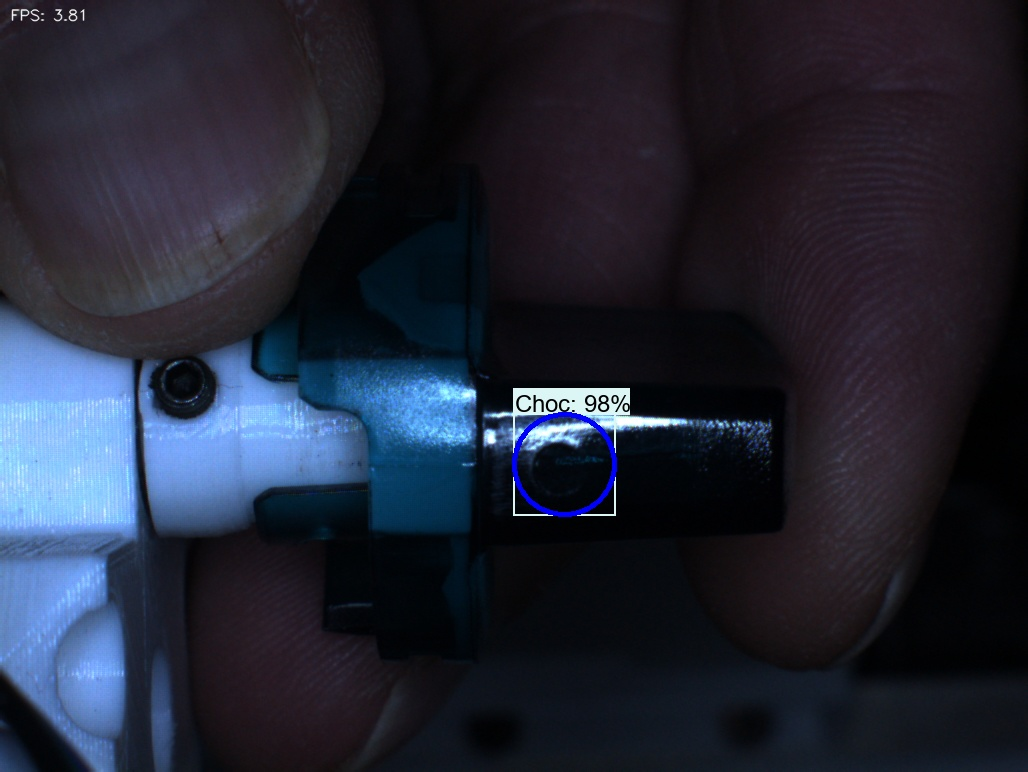DentOk: (327, 233, 408, 333)
